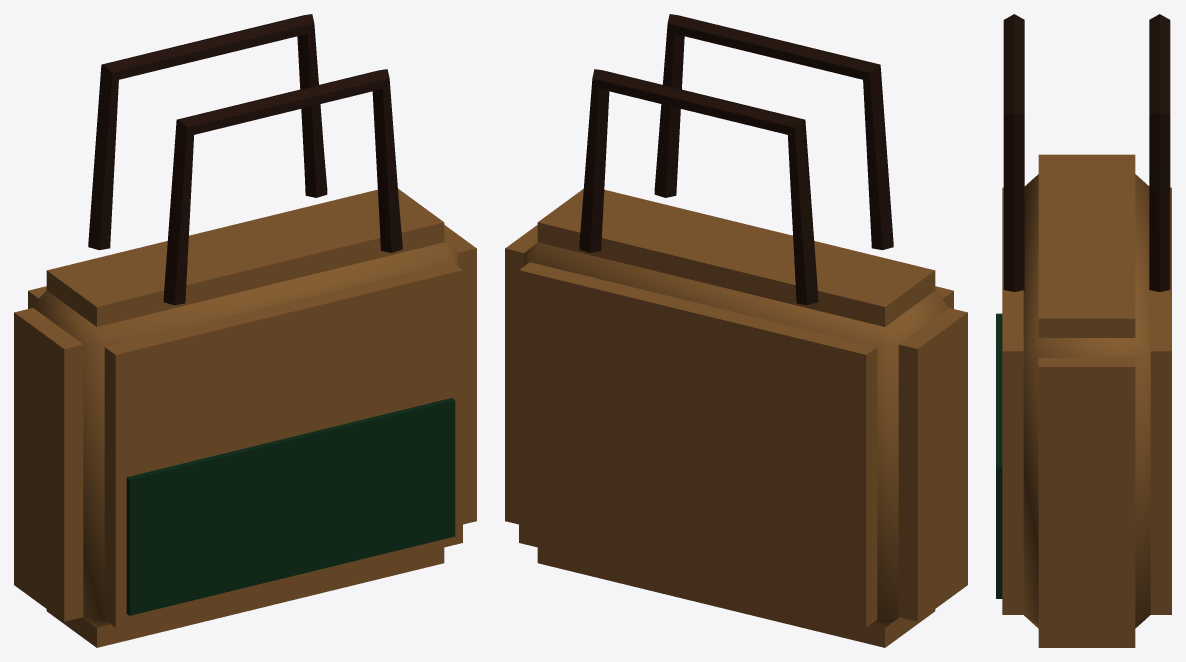
Rendered from mall-bag-tote.glb.
The picture shows the model from 3 angles, left to right: view 1: azimuth 30°, elevation 25°; view 2: azimuth 150°, elevation 25°; view 3: azimuth 270°, elevation 25°; orthographic projection. The views are drawn at different scales.
Visible parts, largest first — view 1: body__leather, handles__leather; view 2: body__leather, handles__leather; view 3: body__leather, handles__leather.
Part boxes in pixels (left/top/right/bottom): body__leather: left=14, top=188, right=476, bottom=647; handles__leather: left=88, top=14, right=402, bottom=305; body__leather: left=505, top=189, right=967, bottom=647; handles__leather: left=579, top=14, right=893, bottom=305; body__leather: left=996, top=154, right=1171, bottom=647; handles__leather: left=1003, top=14, right=1170, bottom=291.
Size of the model in its own units: 0.38 by 0.4578 by 0.145.
